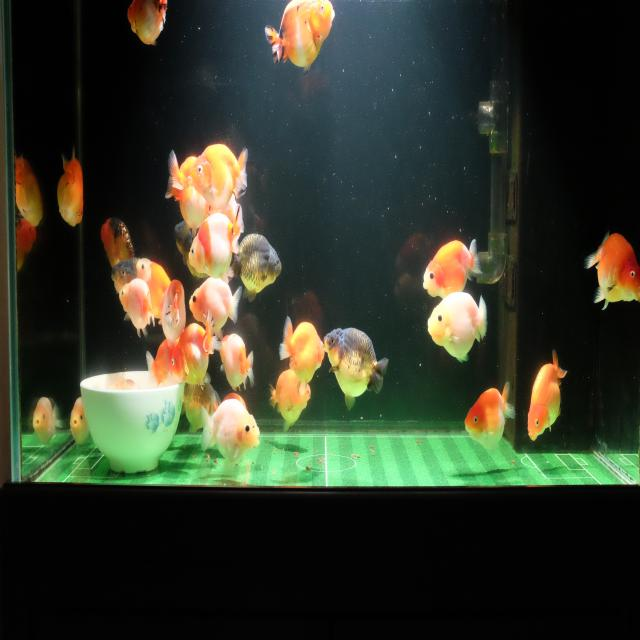Tilapia: (322, 326, 390, 413), (263, 0, 336, 78), (199, 401, 261, 477), (583, 230, 640, 312), (186, 141, 248, 216), (186, 205, 244, 284), (427, 291, 488, 365), (421, 237, 483, 302), (526, 349, 568, 443), (168, 314, 218, 389), (463, 380, 515, 452), (232, 231, 282, 305), (278, 312, 324, 392), (188, 278, 241, 336), (267, 368, 312, 434), (56, 146, 85, 234), (14, 151, 45, 231), (118, 278, 156, 342), (135, 253, 170, 321), (218, 333, 256, 394), (126, 0, 169, 48), (98, 213, 134, 269), (158, 278, 186, 347), (110, 256, 144, 298), (69, 391, 90, 451)
